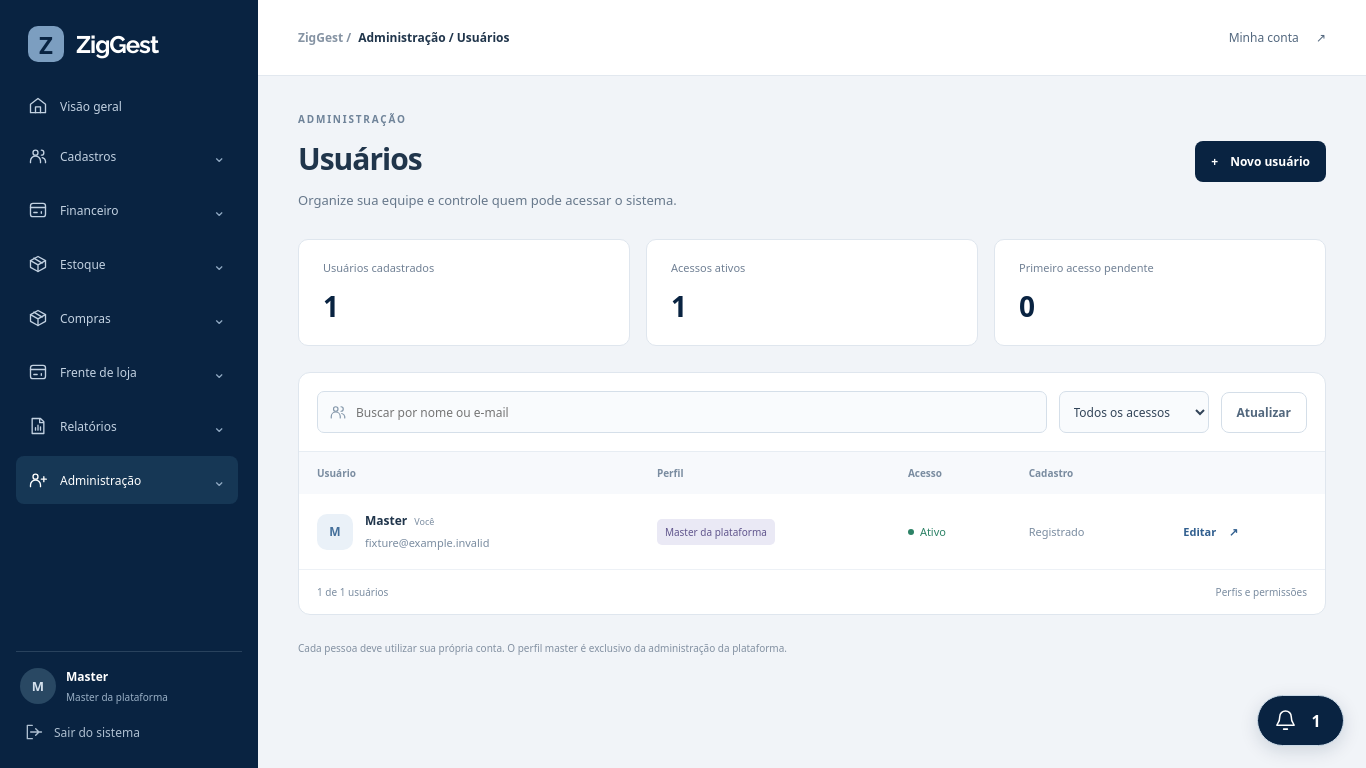
Test: protected application › protects the signed-in master from editing their own role or enabled flag
This screenshot has width=1366, height=768.
Expected: the text "fixture@example.invalid" is shown, 365,535 -> 490,550
Click the button with aria-label "Editar Master" at (1211, 532), box 1178,519 -> 1243,544
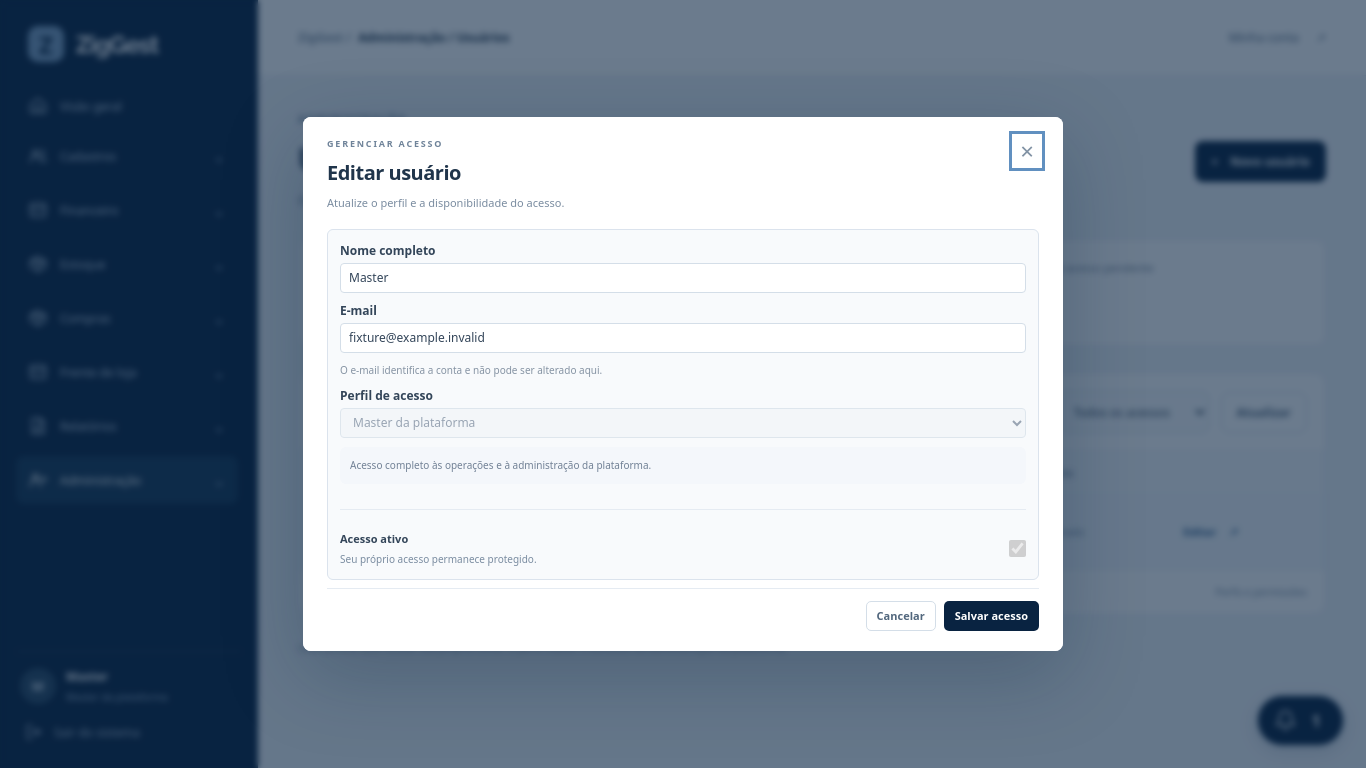
Expected: the dropdown labelled "Perfil de acesso" is disabled, 340,408 -> 1026,438
Expected: the checkbox is disabled, 1009,540 -> 1026,557
